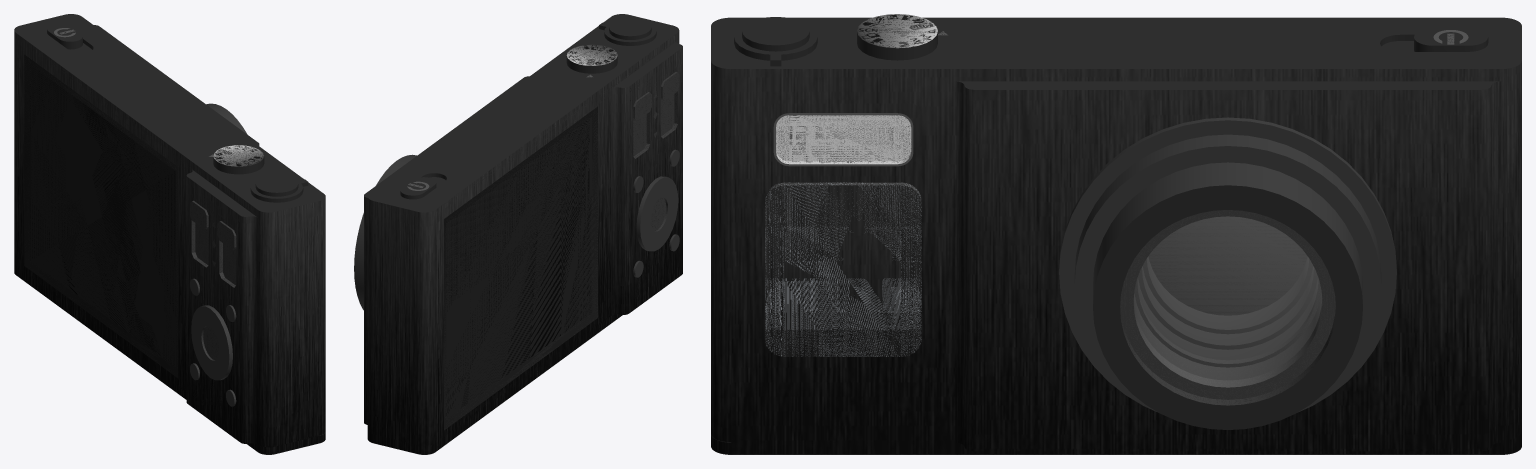
The picture shows the model from 3 angles, left to right: view 1: azimuth 30°, elevation 25°; view 2: azimuth 150°, elevation 25°; view 3: azimuth 270°, elevation 25°; orthographic projection. The views are drawn at different scales.
Visible parts, largest first — view 1: Body (×15), Batery; view 2: Body (×16); view 3: Body (×18), Lense (×10), Slide, Batery.
Boxes of the visible parts, bbox=[...] form: Body (×15): bbox=[14, 14, 325, 447]; Batery: bbox=[168, 381, 325, 454]; Body (×16): bbox=[354, 14, 682, 454]; Body (×18): bbox=[711, 14, 1521, 454]; Lense (×10): bbox=[1120, 210, 1335, 399]; Slide: bbox=[765, 185, 921, 356]; Batery: bbox=[711, 435, 1016, 454].
Bounding box in the file's own units: 1.5 × 4.72 × 2.56.
Materials: 18 (4 with a texture image).
